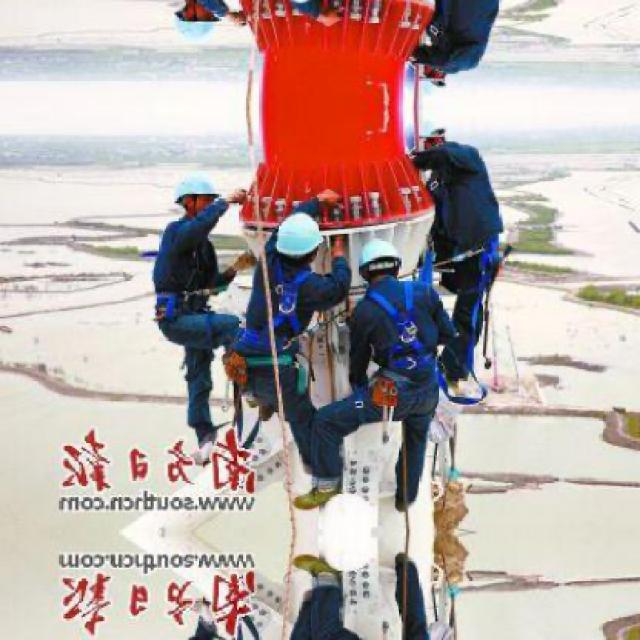helmet: (274, 208, 326, 268), (169, 0, 225, 42), (169, 172, 223, 214), (400, 116, 454, 156), (400, 57, 454, 97), (360, 240, 405, 285)
